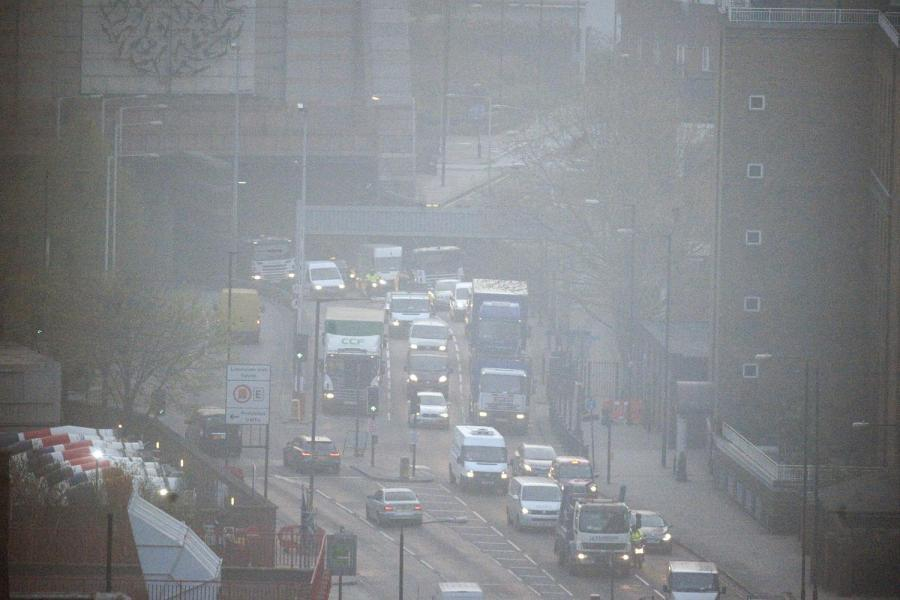bus: (1, 430, 147, 596), (285, 289, 431, 433), (254, 277, 369, 452), (274, 205, 471, 304), (313, 225, 471, 346), (427, 268, 532, 430), (341, 273, 455, 421), (459, 286, 551, 469), (389, 257, 490, 419), (379, 251, 466, 372), (305, 297, 382, 417), (318, 292, 408, 388), (548, 480, 636, 577), (440, 271, 508, 395), (465, 307, 529, 433), (371, 296, 434, 411), (359, 245, 466, 310), (434, 262, 512, 344), (387, 294, 455, 384), (408, 305, 463, 414), (461, 374, 523, 470), (386, 263, 448, 341), (467, 282, 527, 361), (445, 422, 508, 497), (410, 236, 473, 311), (373, 287, 430, 364), (473, 363, 529, 439), (471, 304, 522, 386), (397, 255, 461, 319), (242, 232, 294, 299), (403, 320, 449, 392), (503, 470, 560, 527), (463, 278, 521, 328), (402, 244, 463, 291), (404, 351, 448, 413), (189, 407, 239, 461), (449, 274, 502, 322), (388, 259, 451, 298), (382, 246, 434, 293), (390, 299, 437, 350), (666, 554, 719, 599), (424, 258, 465, 311), (383, 289, 428, 335), (396, 289, 446, 329), (404, 316, 450, 358), (494, 376, 528, 432), (377, 262, 422, 304), (512, 444, 556, 483), (300, 259, 346, 296), (407, 386, 446, 428), (442, 264, 473, 316), (589, 396, 642, 425), (431, 276, 466, 319), (419, 284, 455, 324), (406, 244, 460, 270), (448, 281, 471, 323), (598, 398, 624, 424), (434, 277, 457, 303)
car: (1, 430, 147, 596), (285, 289, 431, 433), (125, 488, 224, 594), (305, 296, 383, 418), (549, 486, 637, 576), (181, 411, 266, 503), (622, 527, 713, 598), (468, 301, 528, 406), (395, 317, 456, 418), (220, 234, 281, 335), (498, 442, 570, 525), (461, 374, 523, 470), (236, 237, 308, 312), (544, 455, 603, 542), (465, 279, 527, 357), (445, 422, 508, 497), (551, 473, 631, 529), (175, 407, 238, 477), (318, 294, 383, 361), (584, 500, 640, 577), (385, 280, 464, 334), (471, 363, 528, 436), (382, 290, 443, 358), (273, 257, 355, 305), (407, 252, 465, 318), (525, 449, 603, 498), (318, 350, 373, 417), (524, 466, 582, 528), (502, 474, 562, 530), (548, 458, 618, 506), (125, 449, 184, 505), (659, 541, 720, 591), (240, 232, 293, 287), (451, 277, 507, 329), (629, 519, 675, 579), (412, 290, 457, 350), (625, 561, 696, 599), (403, 332, 448, 391), (509, 445, 556, 501), (544, 473, 602, 517), (395, 310, 454, 353), (219, 286, 261, 346), (399, 353, 455, 398), (510, 468, 569, 510), (282, 434, 340, 475), (404, 317, 449, 368), (396, 296, 447, 341), (608, 518, 652, 569), (490, 448, 535, 497), (666, 559, 719, 600), (406, 362, 447, 415), (364, 488, 421, 526), (189, 408, 232, 458), (319, 382, 382, 416), (252, 248, 296, 296), (612, 501, 656, 549), (427, 290, 469, 340), (472, 300, 521, 341), (404, 244, 463, 278), (515, 452, 570, 488), (384, 281, 439, 317), (606, 546, 650, 591), (471, 287, 524, 324), (384, 289, 428, 333), (331, 264, 384, 300), (377, 262, 422, 304), (422, 311, 468, 352), (380, 294, 413, 351), (630, 510, 673, 553), (528, 447, 581, 481), (547, 456, 596, 492), (596, 536, 640, 576), (439, 333, 465, 400), (421, 272, 459, 317), (632, 554, 671, 596), (302, 259, 345, 297), (412, 286, 456, 323), (143, 461, 184, 500), (140, 471, 179, 512), (257, 265, 296, 306), (626, 512, 656, 565), (127, 412, 180, 442), (322, 258, 362, 296), (409, 390, 448, 428), (81, 439, 140, 464), (433, 277, 469, 317), (613, 572, 667, 598), (514, 443, 555, 476), (140, 436, 187, 464), (407, 316, 447, 346), (195, 404, 225, 444), (312, 256, 347, 286), (381, 287, 409, 324), (357, 271, 392, 299), (506, 447, 538, 477), (429, 282, 454, 320), (448, 281, 471, 322), (140, 461, 167, 495), (551, 455, 590, 478), (155, 411, 187, 439), (612, 544, 639, 577), (625, 513, 644, 557), (423, 293, 449, 325), (156, 459, 185, 487), (346, 271, 377, 297), (103, 438, 143, 458), (397, 265, 427, 291), (380, 487, 420, 506), (448, 301, 468, 337), (629, 508, 663, 529), (443, 280, 471, 305), (218, 458, 245, 483), (622, 542, 643, 574), (97, 437, 127, 459), (445, 294, 464, 328), (372, 272, 396, 297), (434, 277, 457, 303), (424, 287, 450, 310), (147, 461, 182, 478), (116, 432, 144, 453), (629, 535, 645, 571), (127, 441, 154, 461), (112, 425, 142, 443), (553, 452, 589, 467), (401, 281, 432, 298), (505, 452, 526, 476), (394, 267, 414, 290), (404, 463, 431, 480), (331, 256, 348, 283), (142, 460, 163, 481), (162, 471, 183, 492), (140, 439, 159, 462), (423, 287, 437, 317), (123, 437, 143, 457)
kite: (125, 495, 221, 594)
motorcycle: (547, 475, 629, 574)
parking meter: (184, 408, 239, 500), (241, 235, 294, 321), (248, 264, 293, 340), (189, 408, 234, 459), (220, 286, 260, 343), (367, 371, 390, 417), (598, 397, 620, 425), (365, 376, 380, 416), (319, 371, 335, 408), (402, 371, 417, 406)
person: (547, 475, 629, 574), (547, 456, 595, 521), (404, 316, 448, 371), (404, 297, 445, 344), (346, 354, 373, 417), (364, 361, 391, 417), (359, 355, 379, 417), (443, 281, 471, 323), (125, 453, 147, 494), (319, 353, 336, 401), (434, 279, 456, 315), (426, 287, 449, 321), (360, 270, 383, 299), (508, 444, 528, 475), (347, 268, 366, 296), (353, 273, 372, 299), (141, 438, 160, 462), (423, 287, 437, 317)
potted plant: (358, 271, 384, 298), (351, 271, 374, 296)
refrigerator: (306, 293, 382, 411)
stop sign: (604, 398, 626, 423)
traffic light: (306, 296, 382, 418), (217, 286, 259, 342), (193, 407, 236, 459), (598, 398, 624, 424), (362, 271, 385, 299), (319, 371, 335, 408), (292, 351, 304, 391), (289, 391, 304, 422)
train: (1, 429, 164, 596), (597, 397, 629, 426)
truck: (1, 430, 147, 596), (128, 149, 275, 303), (285, 289, 431, 433), (460, 272, 538, 441), (313, 296, 382, 416), (550, 480, 636, 575), (468, 301, 528, 406), (464, 377, 524, 479), (387, 294, 455, 384), (408, 305, 463, 414), (389, 241, 456, 327), (539, 457, 606, 536), (635, 543, 718, 600), (246, 242, 332, 297), (575, 491, 642, 560), (467, 278, 527, 355), (384, 275, 454, 340), (412, 249, 471, 326), (446, 423, 508, 496), (466, 431, 541, 491), (373, 287, 430, 364), (318, 294, 383, 361), (471, 363, 528, 436), (273, 257, 355, 305), (401, 244, 463, 299), (501, 475, 562, 530), (239, 232, 294, 291), (403, 326, 448, 398), (451, 277, 507, 329), (403, 294, 458, 346), (189, 407, 239, 461), (509, 445, 556, 501), (395, 252, 437, 310), (390, 299, 437, 350), (402, 271, 453, 318), (664, 556, 719, 599), (281, 434, 339, 474), (363, 487, 421, 527), (473, 299, 520, 348), (424, 258, 465, 311), (406, 362, 447, 415), (405, 317, 450, 364), (468, 277, 527, 311), (396, 289, 446, 329), (383, 290, 430, 332), (471, 287, 524, 324), (546, 455, 596, 494), (631, 511, 672, 555), (302, 259, 345, 297), (409, 246, 463, 276), (442, 264, 473, 316), (408, 390, 449, 428), (589, 396, 642, 425), (431, 276, 466, 319), (419, 284, 455, 324), (514, 443, 554, 477), (448, 281, 471, 323), (600, 398, 628, 425), (434, 277, 457, 303)
tv: (313, 298, 382, 416), (473, 299, 521, 354), (404, 317, 449, 368)
umbrella: (125, 494, 221, 593), (63, 447, 114, 470)
